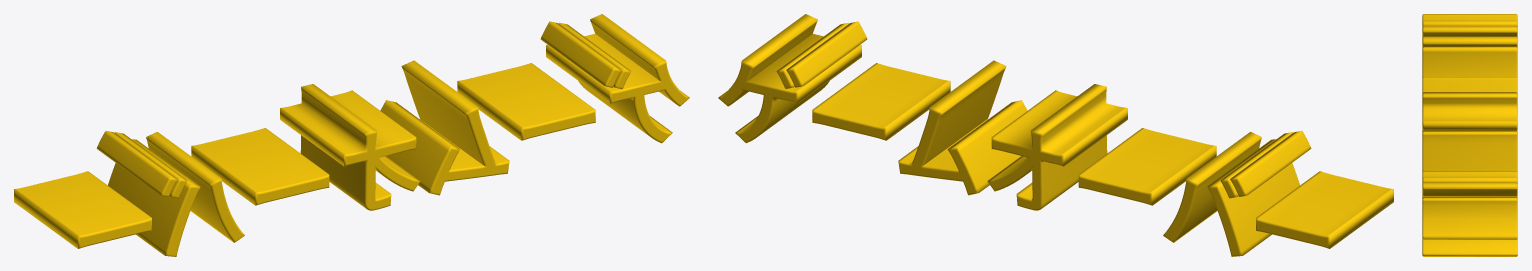
File: GameOver.obj
3 renders of one model, left to right at view 1: azimuth 30°, elevation 25°; view 2: azimuth 150°, elevation 25°; view 3: azimuth 270°, elevation 25°, orthographic. The views are drawn at different scales.
Visible parts, largest first — view 1: テキスト; view 2: テキスト; view 3: テキスト.
Boxes of the visible parts, bbox=[...] form: テキスト: bbox=[14, 14, 689, 256]; テキスト: bbox=[718, 14, 1393, 256]; テキスト: bbox=[1422, 14, 1517, 256].
Size of the model in its own units: 69 by 9.38 by 12.8.
1 material, 1 textured.
